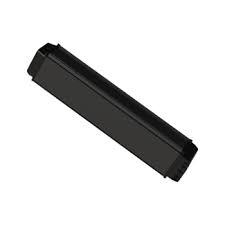battery: (16, 34, 220, 191)
